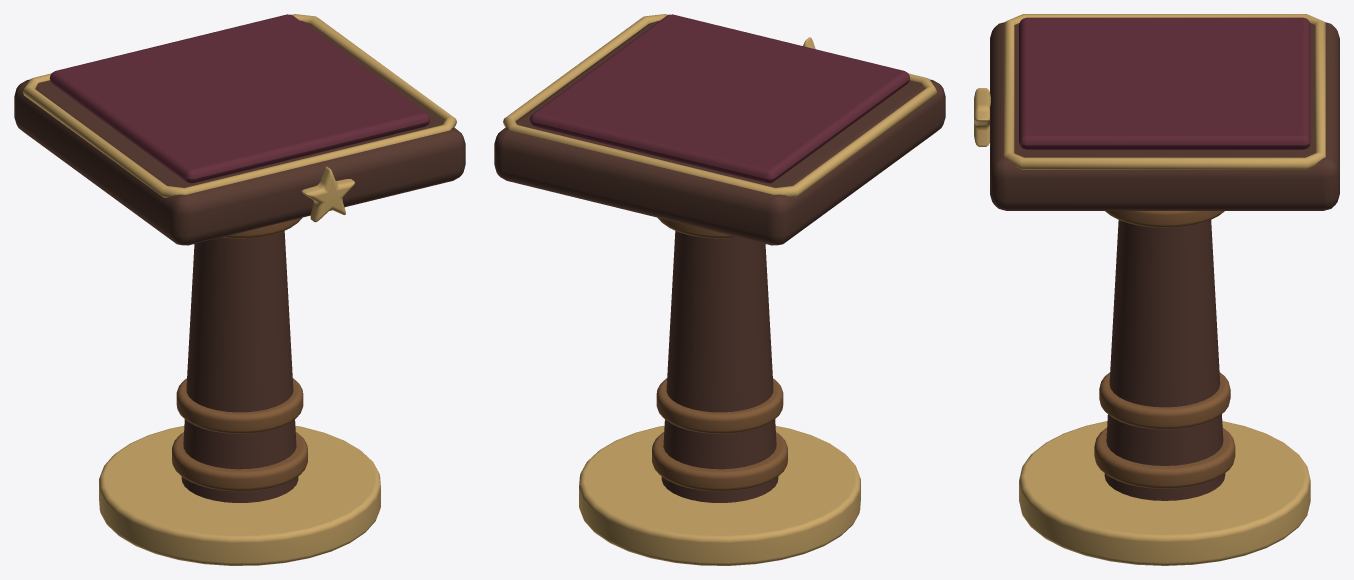
The model's file is prize_plinth.glb.
The picture shows the model from 3 angles, left to right: view 1: azimuth 30°, elevation 25°; view 2: azimuth 150°, elevation 25°; view 3: azimuth 270°, elevation 25°; orthographic projection. The views are drawn at different scales.
Visible parts, largest first — view 1: prize_plinth_Body_carved_mahogany, prize_plinth_Body_wine_velvet, prize_plinth_Body_aged_brass, prize_plinth_Body_antique_gold; view 2: prize_plinth_Body_carved_mahogany, prize_plinth_Body_wine_velvet, prize_plinth_Body_aged_brass, prize_plinth_Body_antique_gold; view 3: prize_plinth_Body_carved_mahogany, prize_plinth_Body_wine_velvet, prize_plinth_Body_aged_brass, prize_plinth_Body_antique_gold.
Part boxes in pixels (x1,y1,x2,y2): prize_plinth_Body_carved_mahogany: [14, 20, 465, 502]; prize_plinth_Body_wine_velvet: [49, 14, 430, 183]; prize_plinth_Body_aged_brass: [23, 14, 456, 565]; prize_plinth_Body_antique_gold: [172, 218, 307, 491]; prize_plinth_Body_carved_mahogany: [494, 20, 945, 502]; prize_plinth_Body_wine_velvet: [529, 14, 910, 183]; prize_plinth_Body_aged_brass: [503, 14, 936, 565]; prize_plinth_Body_antique_gold: [652, 218, 787, 491]; prize_plinth_Body_carved_mahogany: [990, 22, 1339, 500]; prize_plinth_Body_wine_velvet: [1019, 17, 1310, 149]; prize_plinth_Body_aged_brass: [974, 14, 1325, 565]; prize_plinth_Body_antique_gold: [1094, 211, 1235, 488].
Size of the model in its own units: 0.724 by 0.975 by 0.7525.
